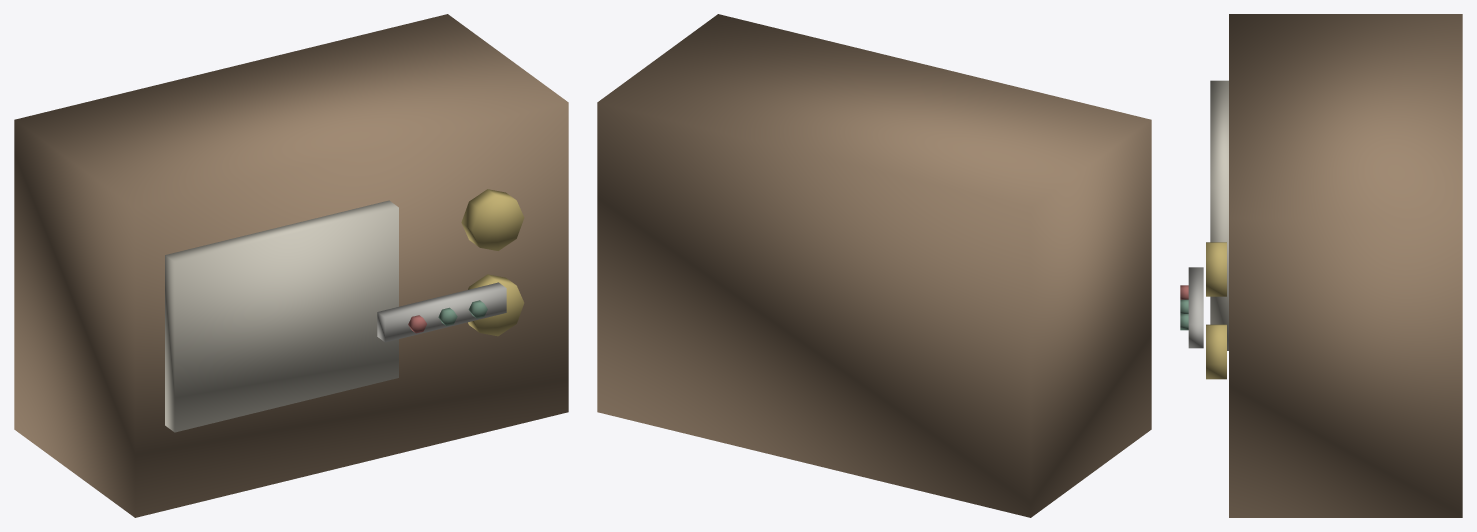
Rendered from tube_radio__reinforced.glb.
3 views of the same model, side by side, from view 1: azimuth 30°, elevation 25°; view 2: azimuth 150°, elevation 25°; view 3: azimuth 270°, elevation 25° (orthographic). The views are drawn at different scales.
Visible parts, largest first — view 1: world; view 2: world; view 3: world.
Part boxes in pixels (x1,y1,x2,y2): world: [14, 14, 568, 517]; world: [597, 14, 1151, 517]; world: [1180, 14, 1462, 517].
Size of the model in its own units: 0.5974 by 0.408 by 0.3487.
